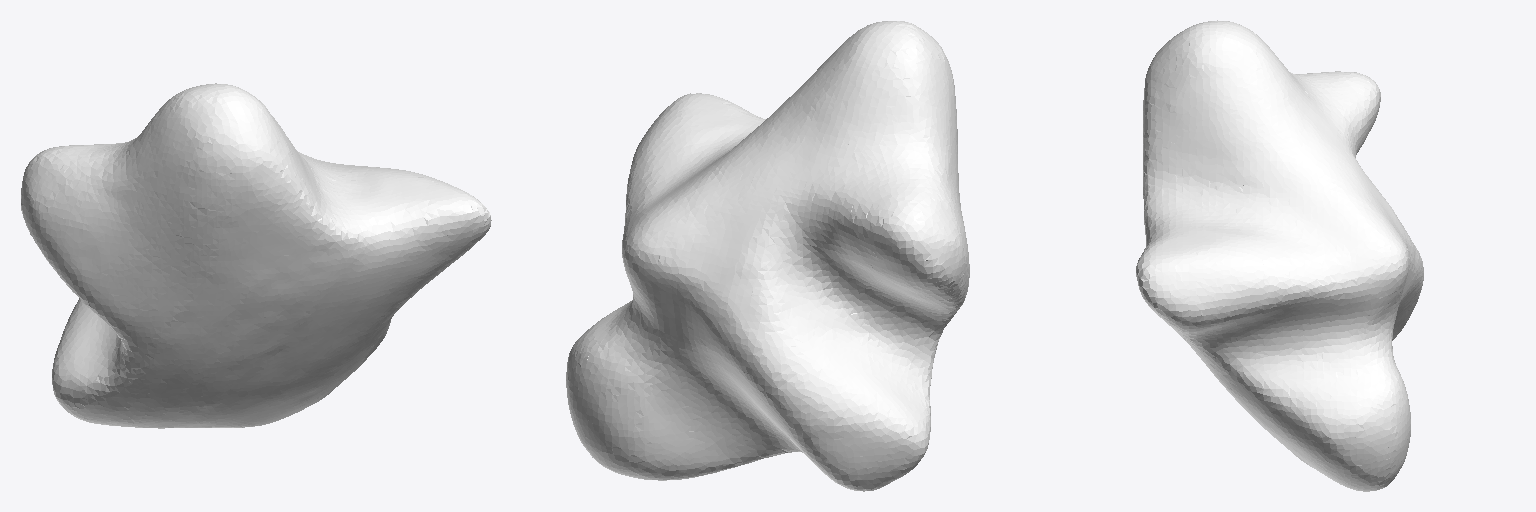
robot.urdf — feelie1:
<robot name="feelie1">
	<link name="_name">
		<visual>
			<origin rpy="0 0 0" xyz="0.00024183986974283148 -0.00045102366455426594 0.0022510593906124397" />
			<geometry>
				<mesh filename="feelie1.obj" scale="0.001 0.001 0.001" />
			</geometry>
			<material name="texture">
				<color rgba="1.0 1.0 1.0 1.0" />
			</material>
		</visual>
		<collision>
			<geometry>
				<mesh filename="feelie1_vhacd.obj" scale="0.001 0.001 0.001" />
			</geometry>
		<origin rpy="0 0 0" xyz="0.00024183986974283148 -0.00045102366455426594 0.0022510593906124397" /></collision>
		<inertial>
			<mass value="1.0" />
			<inertia ixx="1.0" ixy="0.0" ixz="0.0" iyy="1.0" iyz="0.0" izz="1.0" />
		</inertial>
	</link>
</robot>

--- Facts derived from the render (not from the file) ---
3 views of the same robot in one strip: view 1: azimuth 30°, elevation 25°; view 2: azimuth 150°, elevation 25°; view 3: azimuth 270°, elevation 25° (orthographic).
Robot: feelie1 — 1 links, 0 joints (none); root link _name; default pose: all joints at 0.
Links seen in each view (by area): view 1: _name; view 2: _name; view 3: _name.
Boxes of the visible links, bbox=[...] form: _name: bbox=[21, 83, 491, 428]; _name: bbox=[566, 21, 969, 491]; _name: bbox=[1136, 20, 1423, 491].
Size in the robot's own frame: 0.0853 by 0.0599 by 0.0892 metres.
Meshes: 1 distinct files referenced, 1 mesh visuals loaded (1 OBJ).
